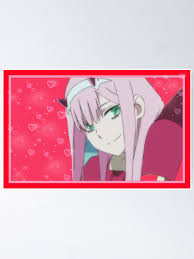zeroTwo: (54, 77, 169, 156)
